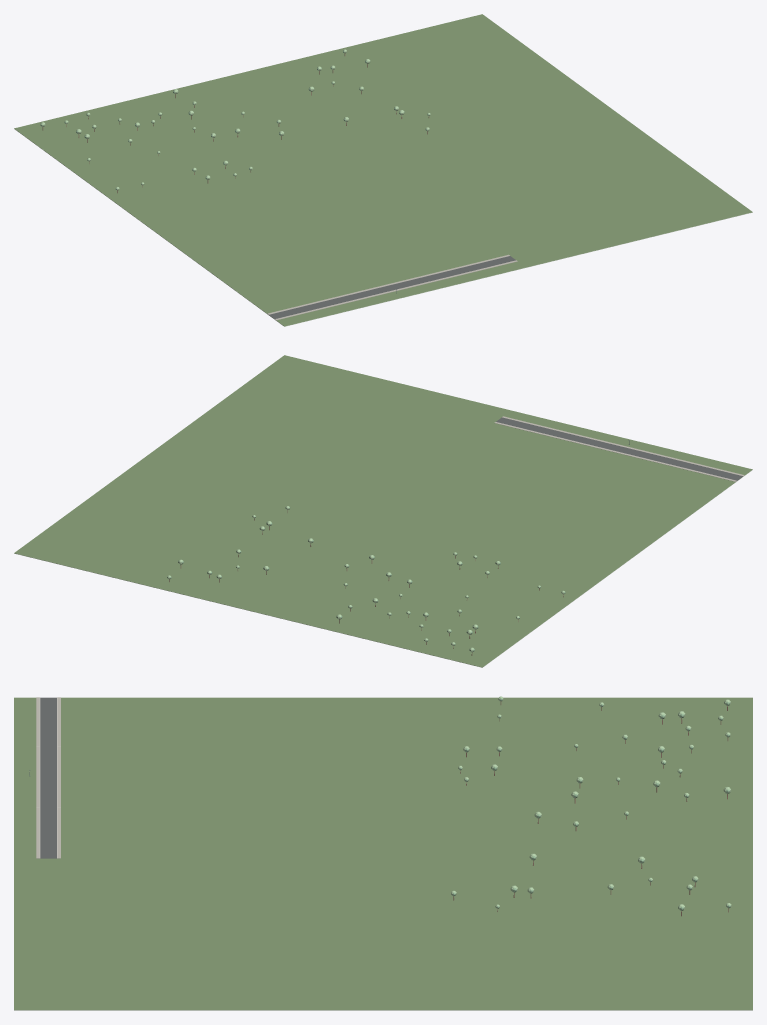
Rendered from chunk_7_5_high.glb.
The picture shows the model from 3 angles, top to bottom: view 1: azimuth 30°, elevation 25°; view 2: azimuth 150°, elevation 25°; view 3: azimuth 270°, elevation 25°; orthographic projection. The views are drawn at different scales.
Visible parts, largest first — view 1: city_forest_floor, city_world_asphalt, city_world_sidewalk, city_grass, city_foliage; view 2: city_forest_floor, city_world_asphalt, city_world_sidewalk, city_grass, city_foliage; view 3: city_forest_floor, city_world_asphalt, city_world_sidewalk, city_foliage, city_grass.
Boxes of the visible parts, x1,y1,x2,y2 form: city_forest_floor: (14,14,752,326); city_world_asphalt: (269,256,515,318); city_world_sidewalk: (267,254,517,320); city_grass: (14,129,752,326); city_foliage: (41,49,430,190); city_forest_floor: (14,355,752,667); city_world_asphalt: (496,417,742,480); city_world_sidewalk: (494,416,744,481); city_grass: (14,470,752,667); city_foliage: (167,506,564,652); city_forest_floor: (14,697,752,1009); city_world_asphalt: (40,697,56,858); city_world_sidewalk: (36,697,60,858); city_foliage: (451,696,731,910); city_grass: (14,1010,752,1010).
Bounding box in the file's own units: 512 × 9.71 × 512.
